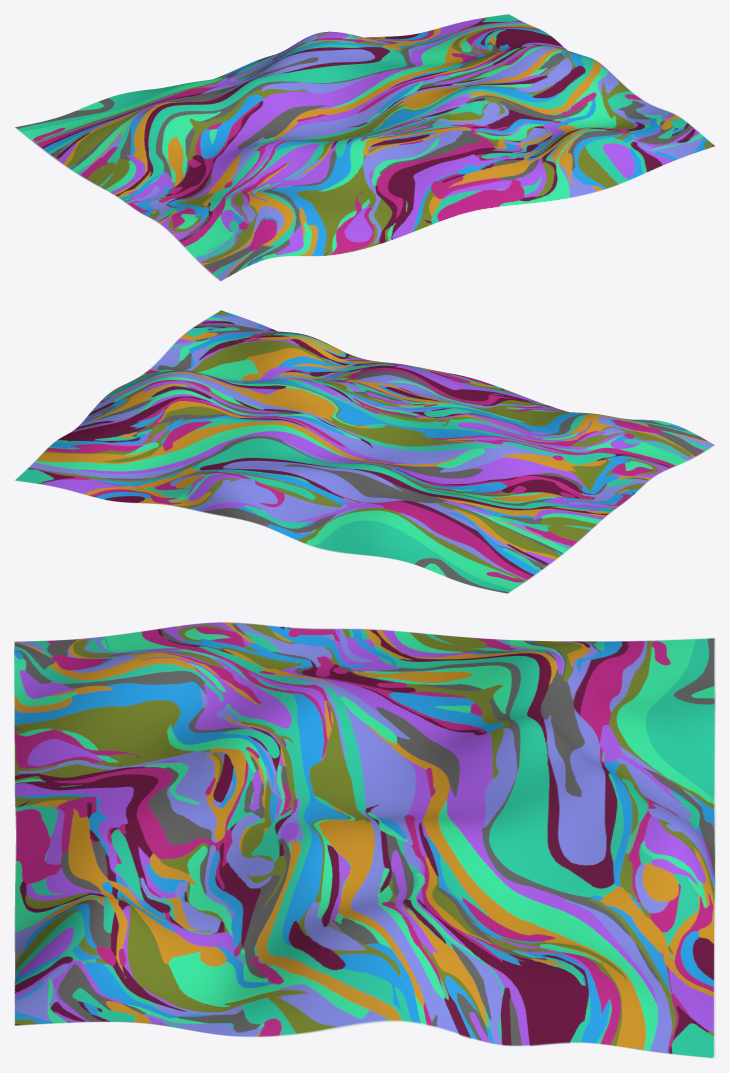
The model's file is marie.gltf.
3 views of the same model, one above another, from view 1: azimuth 30°, elevation 25°; view 2: azimuth 150°, elevation 25°; view 3: azimuth 270°, elevation 25° (orthographic). The views are drawn at different scales.
Visible parts, largest first — view 1: pPlane1; view 2: pPlane1; view 3: pPlane1.
Part boxes in pixels (x1=…): pPlane1: x1=14, y1=14, x2=715, y2=281; pPlane1: x1=14, y1=310, x2=715, y2=593; pPlane1: x1=14, y1=622, x2=715, y2=1058.
Bounding box in the file's own units: 6.84 × 0.6666 × 4.94.
1 material, 1 textured.
